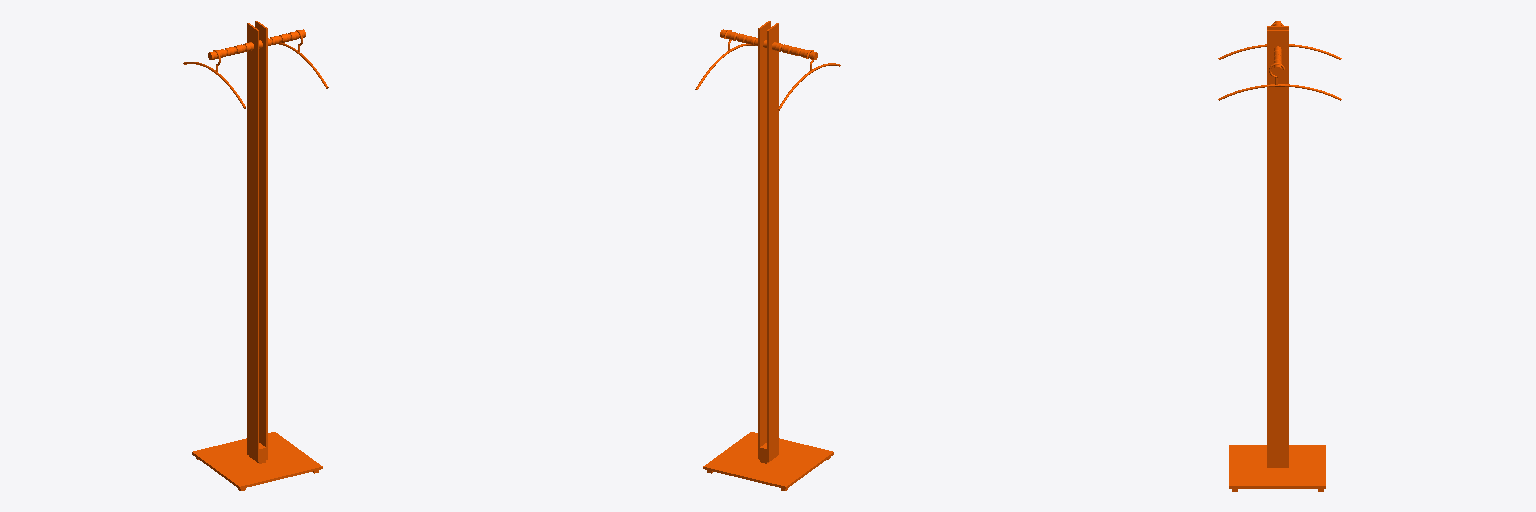
robot.urdf — CoatRack_24a40890a2654d476a44fdd49dec8069:
<?xml version="1.0" ?>
<robot name="CoatRack_24a40890a2654d476a44fdd49dec8069">
   <material name="obj_color">
      <color rgba="1.0 0.423529411765 0.0392156862745 1.0"/>
   </material>
   <link name="top">
      <inertial>
         <origin rpy="1.248031073525351e-05 0.0001261769630791942 0.0001270761648629989" xyz="7.720397948808496e-05 0.0001286809727748889 -0.02930976541197429"/>
         <mass value="0.09591582457577984"/>
         <inertia ixx="0.000127076090649715" ixy="3.497181951468272e-10" ixz="9.221805295232051e-08" iyy="0.0001261748975510476" iyz="-4.846023663149775e-07" izz="1.248245047668392e-05"/>
      </inertial>
      <visual>
         <origin rpy="0 0 0" xyz="0 0 0"/>
         <geometry>
            <mesh filename="top_watertight_tiny.stl" scale="1 1 1"/>
         </geometry>
         <material name="obj_color"/>
      </visual>
      <collision>
         <origin rpy="0 0 0" xyz="0 0 0"/>
         <geometry>
            <mesh filename="top_watertight_tiny.obj" scale="1 1 1"/>
         </geometry>
      </collision>
   </link>
   <link name="bottom">
      <inertial>
         <origin rpy="1.633333333199431e-08 1.633333333199431e-08 1.633333333362855e-08" xyz="0.3464080000000008 0.3464080000000008 0.3464080000000008"/>
         <mass value="0.0009800000000000017"/>
         <inertia ixx="1.633333333253906e-08" ixy="5.447480642029219e-19" ixz="5.447480642029219e-19" iyy="1.633333333253906e-08" iyz="5.447480642029219e-19" izz="1.633333333253906e-08"/>
      </inertial>
      <visual>
         <origin rpy="0 0 0" xyz="0 0 0"/>
         <geometry>
            <mesh filename="bottom_watertight_tiny.stl" scale="1 1 1"/>
         </geometry>
         <material name="obj_color"/>
      </visual>
   </link>
   <joint name="rotation" type="revolute">
      <origin xyz="0 0 0"/>
      <axis xyz="0 0 -1"/>
      <parent link="bottom"/>
      <child link="top"/>
      <dynamics damping="1.0" friction="1.0"/>
      <limit effort="0.1" velocity="0.1" lower="0" upper="0.001"/>
   </joint>
</robot>

--- What the picture shows (computed from the rendered views, not written in the file) ---
3 views of the same robot in one strip: view 1: azimuth 30°, elevation 25°; view 2: azimuth 150°, elevation 25°; view 3: azimuth 270°, elevation 25° (orthographic).
Model CoatRack_24a40890a2654d476a44fdd49dec8069 with 2 links and 1 joints (1 revolute), rooted at bottom, posed every joint at zero.
Links seen in each view (by area): view 1: top; view 2: top; view 3: top.
Boxes of the visible links, x1,y1,x2,y2 form: top: [183, 21, 328, 490]; top: [695, 21, 840, 490]; top: [1218, 21, 1341, 491].
Size in the robot's own frame: 0.0291 by 0.0328 by 0.1302 metres.
Meshes: 2 distinct files referenced, 1 mesh visuals loaded (1 binary STL); not drawn: 1 (reference not matched to a file when rendering).
